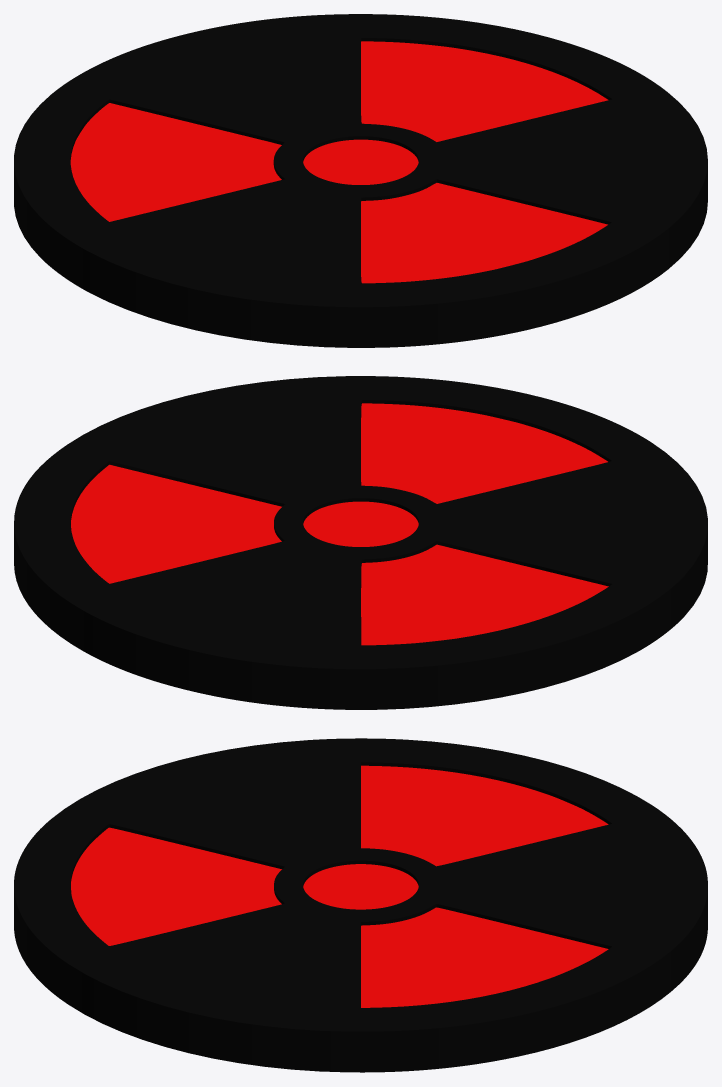
The model's file is Nuclear2.glb.
3 renders of one model, top to bottom at view 1: azimuth 30°, elevation 25°; view 2: azimuth 150°, elevation 25°; view 3: azimuth 270°, elevation 25°, orthographic.
Visible parts, largest first — view 1: Cylinder; view 2: Cylinder; view 3: Cylinder.
Boxes of the visible parts, x1,y1,x2,y2 form: Cylinder: (14, 14, 707, 347); Cylinder: (14, 376, 707, 709); Cylinder: (14, 738, 707, 1072).
Bounding box in the file's own units: 2 × 0.1294 × 2.
Materials: 2 (2 with a texture image).
